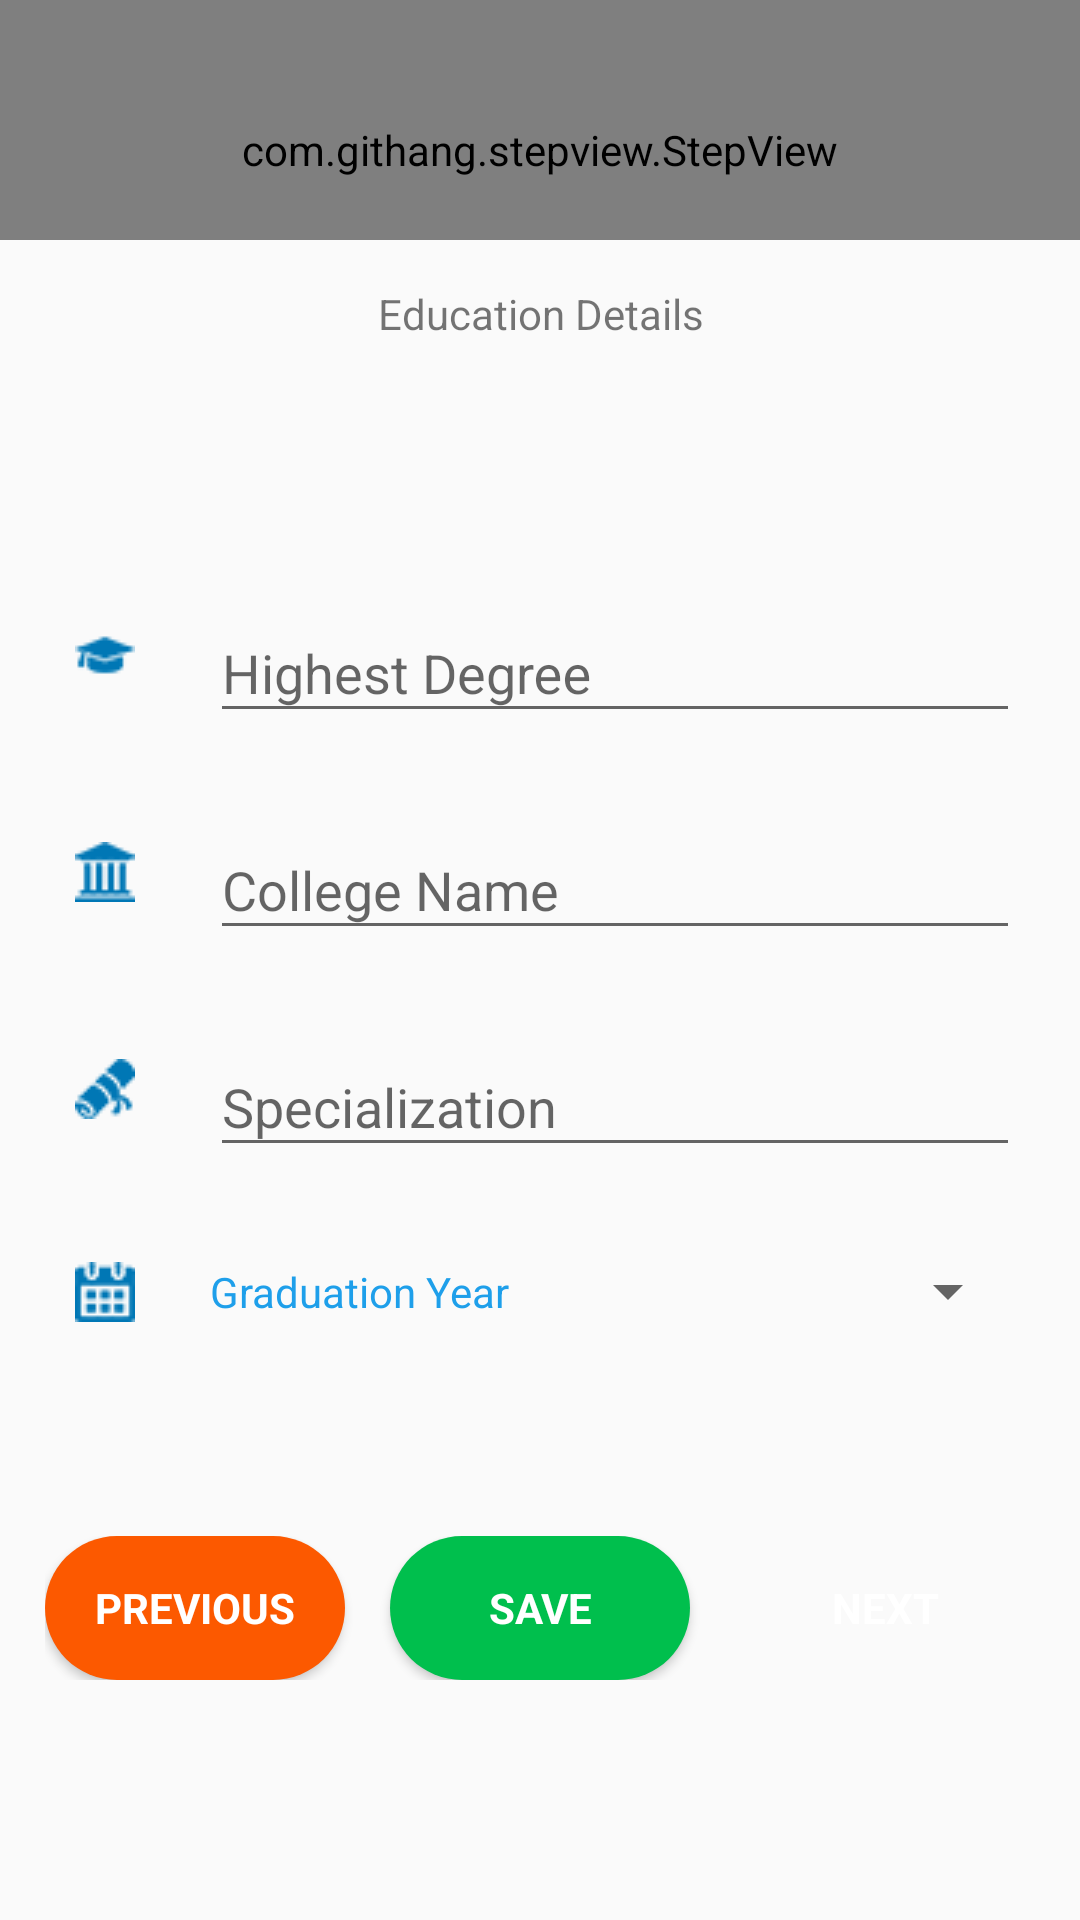

Screen size 1080px×1920px. Icon name, then its box in pixels as (x1, y1, x2, y2):
date: (75, 1262, 135, 1322)
education: (75, 636, 135, 674)
speciality: (75, 1059, 135, 1119)
